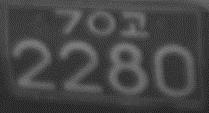0: (153, 42, 195, 98), (85, 8, 117, 37)
2: (59, 39, 104, 95), (11, 38, 55, 91)
7: (54, 7, 83, 35)
8: (109, 40, 148, 97)
고: (120, 10, 149, 39)
